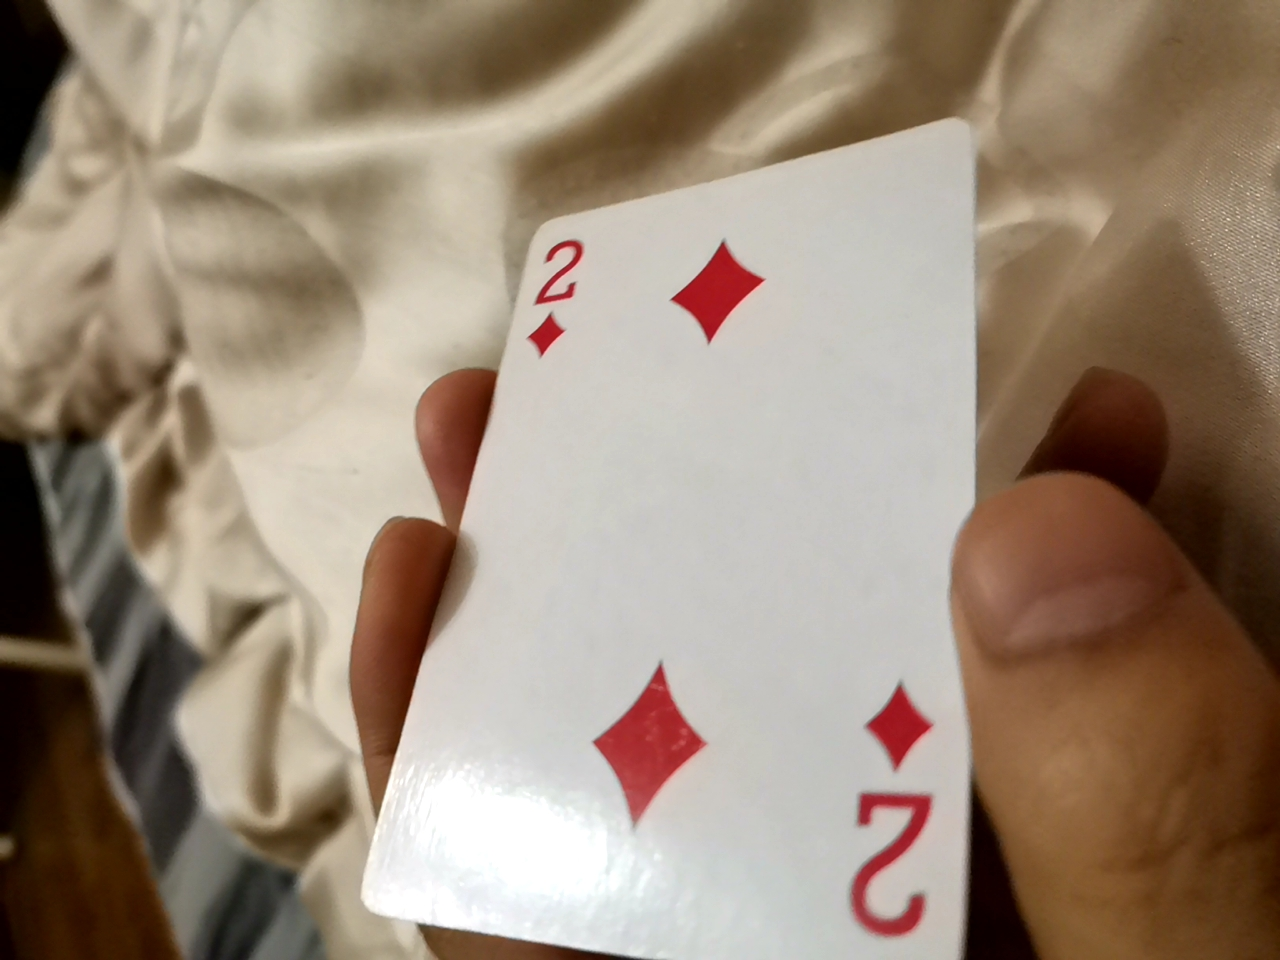fk 2: (341, 147, 974, 953)
